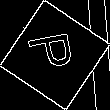P_E: (27, 32, 83, 78)
